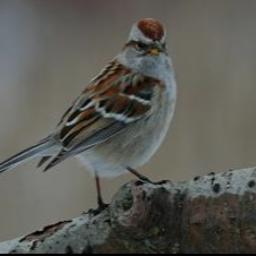Sparrow: (0, 15, 173, 215)
